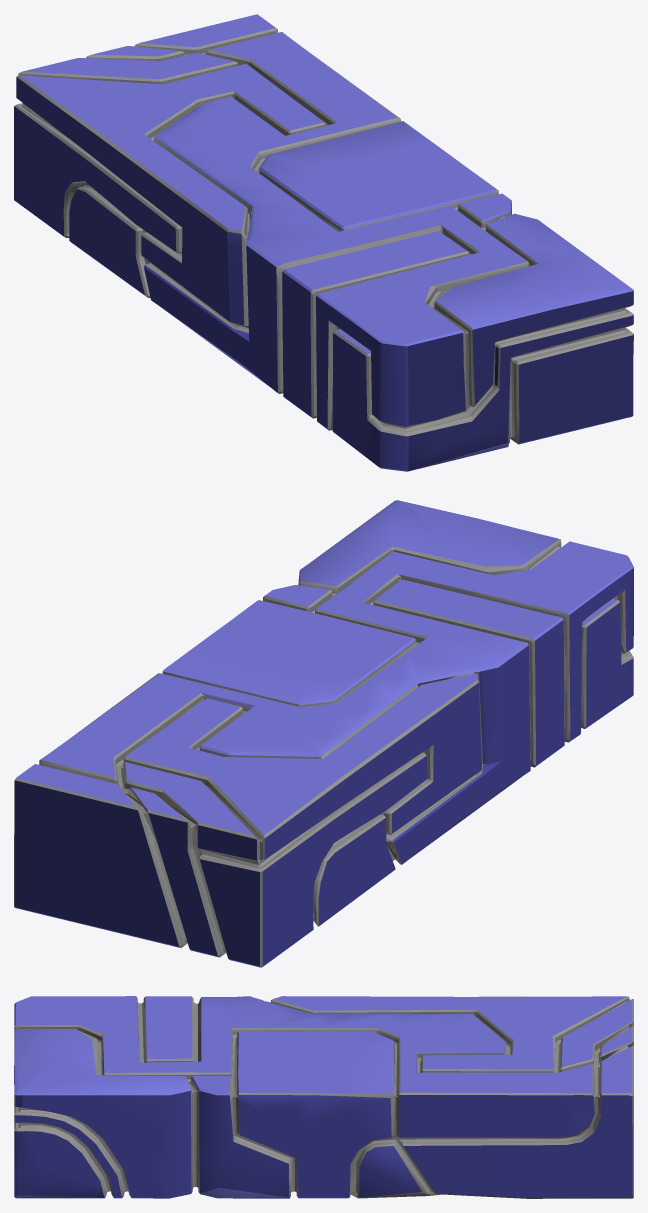
File: extrude_exteriorV1.FBX
The picture shows the model from 3 angles, top to bottom: view 1: azimuth 30°, elevation 25°; view 2: azimuth 150°, elevation 25°; view 3: azimuth 270°, elevation 25°; orthographic projection. The views are drawn at different scales.
Parts seen in each view (by area): view 1: bloc_extrude_HIGHPOLY_exterior_Pierre; view 2: bloc_extrude_HIGHPOLY_exterior_Pierre; view 3: bloc_extrude_HIGHPOLY_exterior_Pierre.
Boxes of the visible parts, left/top/right/bottom form: bloc_extrude_HIGHPOLY_exterior_Pierre: left=14, top=14, right=633, bottom=471; bloc_extrude_HIGHPOLY_exterior_Pierre: left=14, top=500, right=633, bottom=967; bloc_extrude_HIGHPOLY_exterior_Pierre: left=14, top=996, right=633, bottom=1198.
Size of the model in its own units: 300 by 150 by 800.
